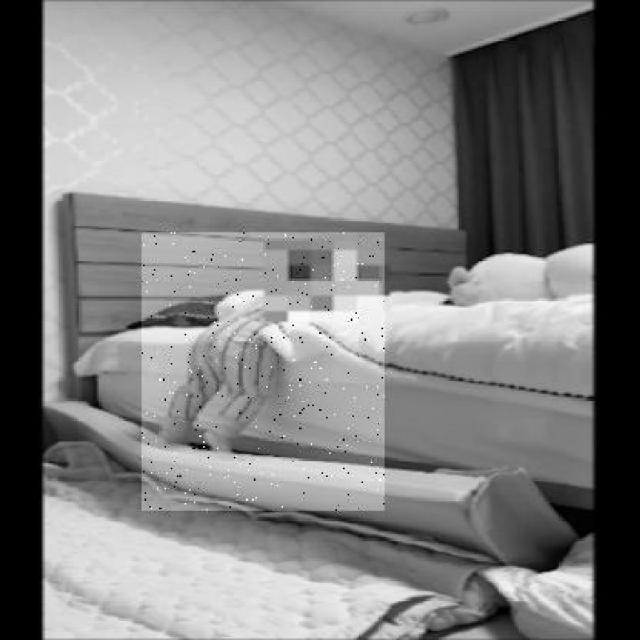child: (141, 232, 384, 510)
